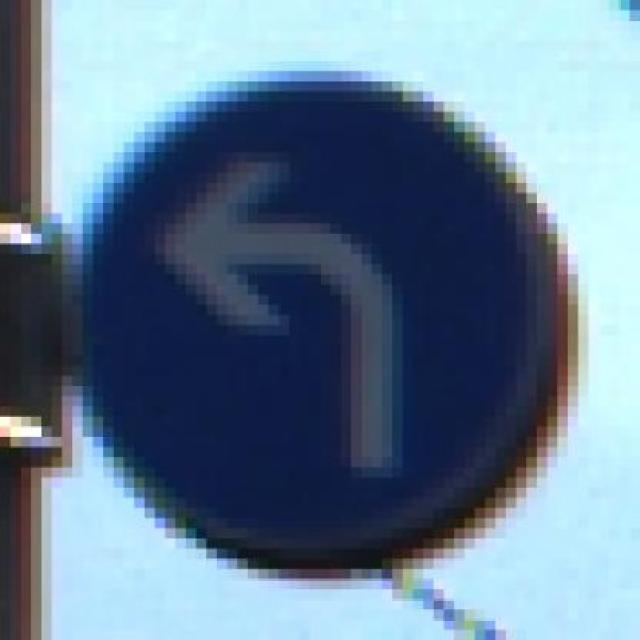Turn left ahead: (61, 71, 578, 589)
